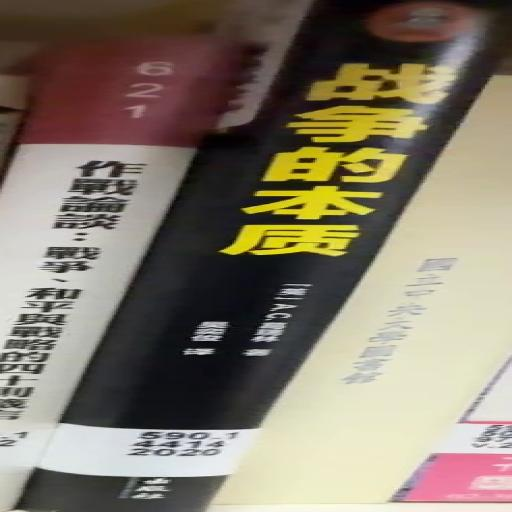book: (1, 1, 511, 512)
